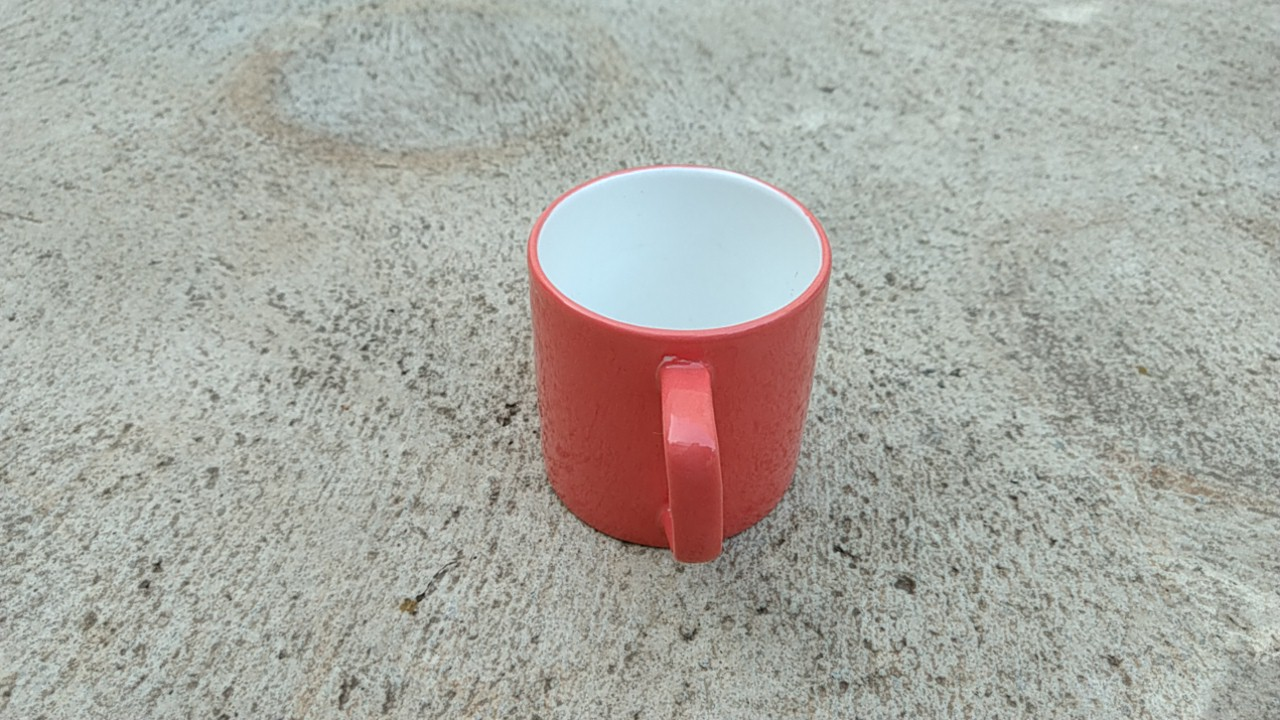cup: (515, 151, 834, 572)
